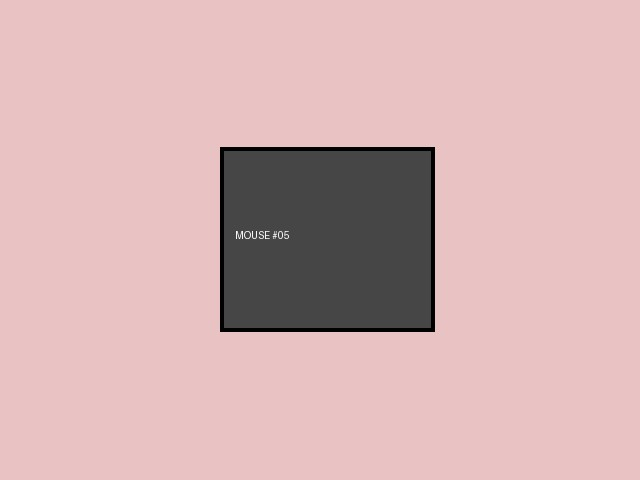mouse: (220, 147, 434, 331)
